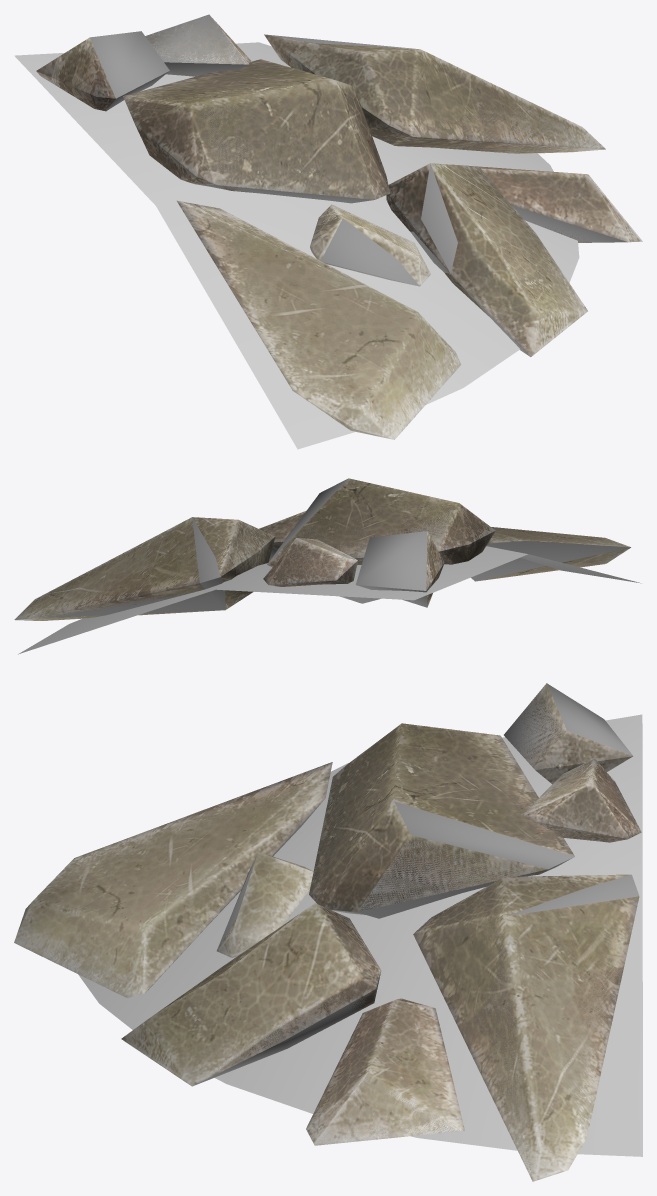
File: z_debris_big_07.FBX
3 renders of one model, top to bottom at view 1: azimuth 30°, elevation 25°; view 2: azimuth 150°, elevation 25°; view 3: azimuth 270°, elevation 25°, orthographic. The views are drawn at different scales.
Visible parts, largest first — view 1: debris_big_07_LOD0, debris_big_m_05_LOD0, debris_big_07_CLOD0; view 2: debris_big_07_LOD0, debris_big_07_CLOD0, debris_big_m_05_LOD0, debris_big_m_05_CLOD0; view 3: debris_big_07_LOD0, debris_big_m_05_LOD0, debris_big_07_CLOD0.
Part boxes in pixels (x1,y1,x2,y2): debris_big_07_LOD0: (36, 17, 642, 439); debris_big_m_05_LOD0: (14, 42, 579, 449); debris_big_07_CLOD0: (90, 14, 627, 356); debris_big_07_LOD0: (14, 478, 630, 620); debris_big_07_CLOD0: (40, 479, 630, 617); debris_big_m_05_LOD0: (18, 546, 527, 654); debris_big_m_05_CLOD0: (520, 554, 640, 583); debris_big_07_LOD0: (14, 683, 641, 1181); debris_big_m_05_LOD0: (78, 714, 642, 1156); debris_big_07_CLOD0: (40, 683, 639, 1177).
Size of what is drawn, in the model's own units: 115 by 49.06 by 112.
